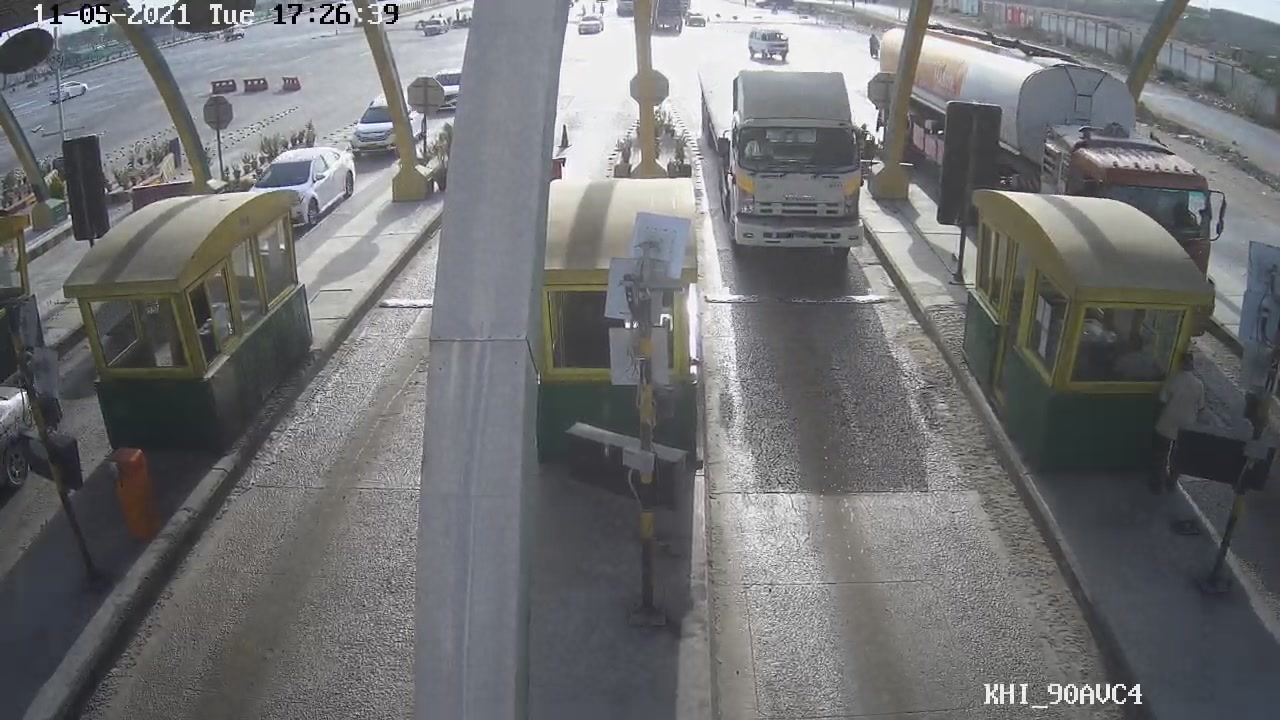F6: (688, 59, 900, 267)
